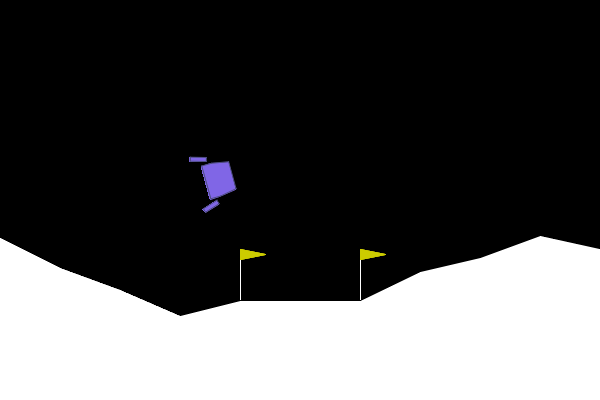lander: (187, 146, 242, 215)
